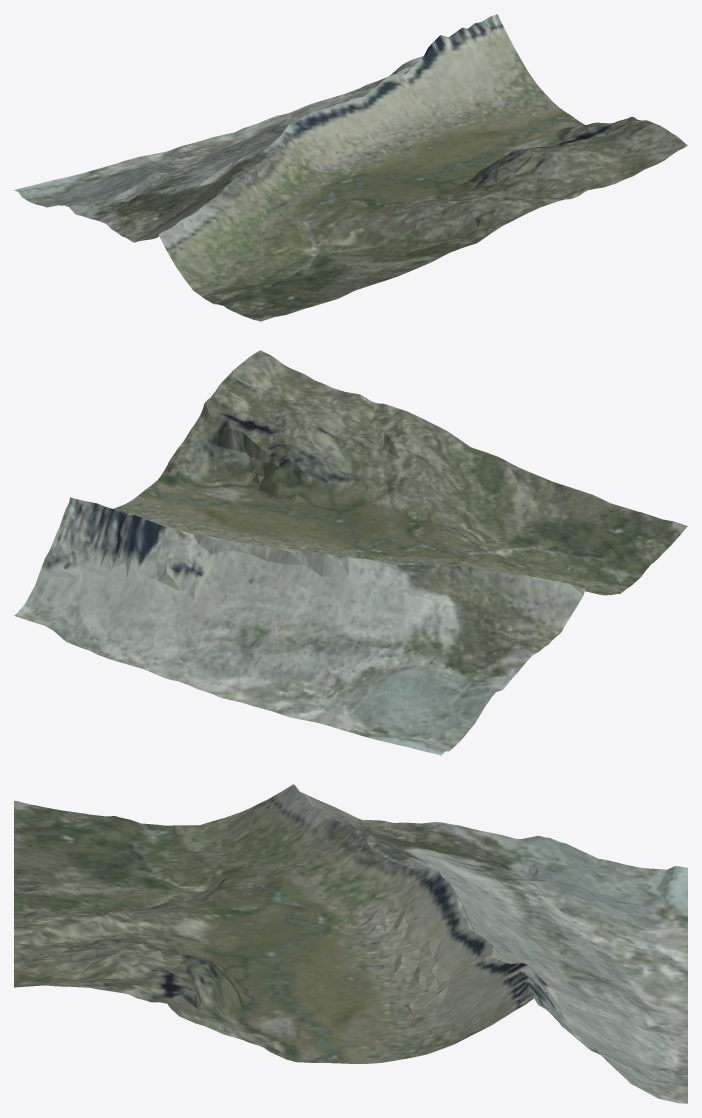
3 views of the same model, one above another, from view 1: azimuth 30°, elevation 25°; view 2: azimuth 150°, elevation 25°; view 3: azimuth 270°, elevation 25° (orthographic). The views are drawn at different scales.
Parts seen in each view (by area): view 1: Plane; view 2: Plane; view 3: Plane.
Part boxes in pixels (x1,y1,x2,y2): Plane: [14, 14, 687, 321]; Plane: [14, 350, 687, 755]; Plane: [14, 784, 687, 1103].
Size of the model in its own units: 0.6 by 0.1658 by 0.6.
Materials: 1 (1 with a texture image).
